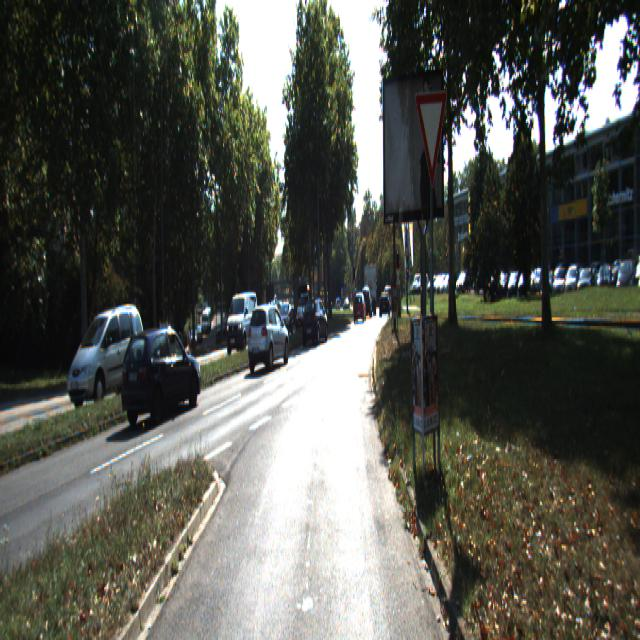Car: (120, 323, 204, 428), (67, 306, 148, 409), (247, 304, 290, 374), (227, 291, 260, 354), (303, 298, 329, 347), (278, 302, 292, 340), (354, 294, 366, 324)
